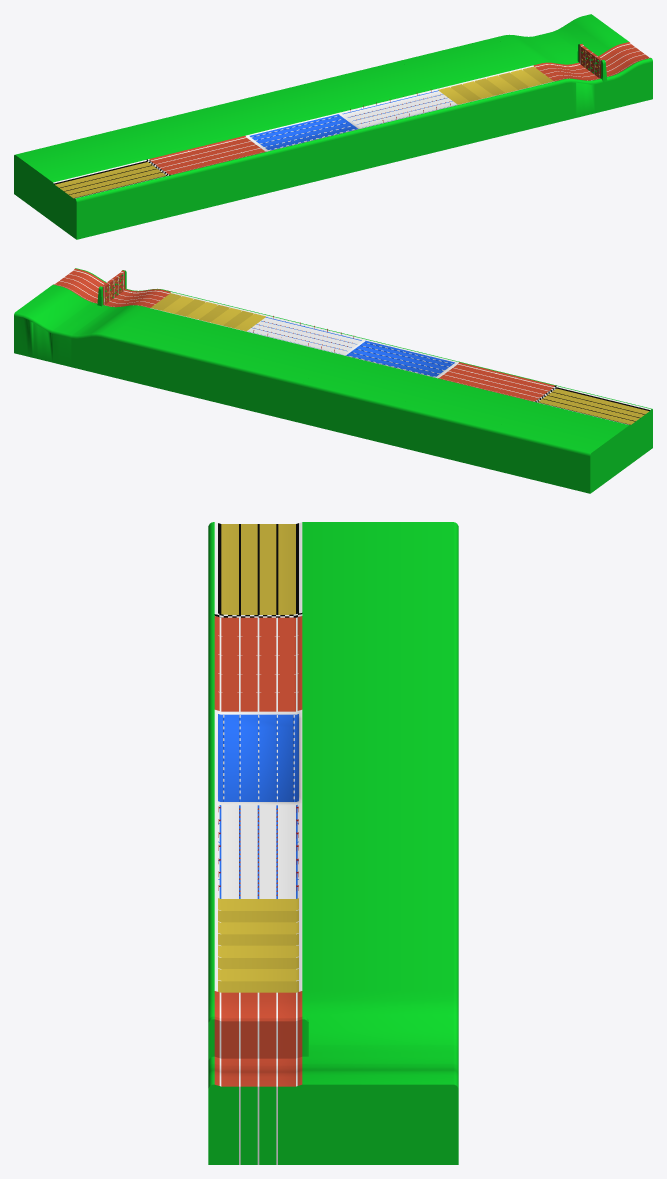
The model's file is Sports Race platforms (2).fbx.
3 views of the same model, one above another, from view 1: azimuth 30°, elevation 25°; view 2: azimuth 150°, elevation 25°; view 3: azimuth 270°, elevation 25° (orthographic). The views are drawn at different scales.
Visible parts, largest first — view 1: Cube.001, water.003, Skier.001, sprint, sand, climber; view 2: Cube.001, Skier.001, water.003, sprint, sand, climber; view 3: climber, water.003, sprint, Skier.001, sand, Cube.001.
Part boxes in pixels (<box>): Cube.001: <box>14,131,172,239</box>; water.003: <box>207,84,364,192</box>; Skier.001: <box>303,61,460,169</box>; sprint: <box>111,108,268,216</box>; sand: <box>400,37,556,145</box>; climber: <box>495,14,652,122</box>; Cube.001: <box>494,385,652,493</box>; Skier.001: <box>206,315,363,423</box>; water.003: <box>302,338,459,446</box>; sprint: <box>398,362,555,470</box>; sand: <box>110,291,266,399</box>; climber: <box>14,268,171,376</box>; climber: <box>208,991,458,1164</box>; water.003: <box>208,709,458,806</box>; sprint: <box>208,616,458,713</box>; Skier.001: <box>208,803,458,900</box>; sand: <box>208,897,458,994</box>; Cube.001: <box>208,522,458,619</box>.
Size of the model in its own units: 12000 by 991 by 2257.
